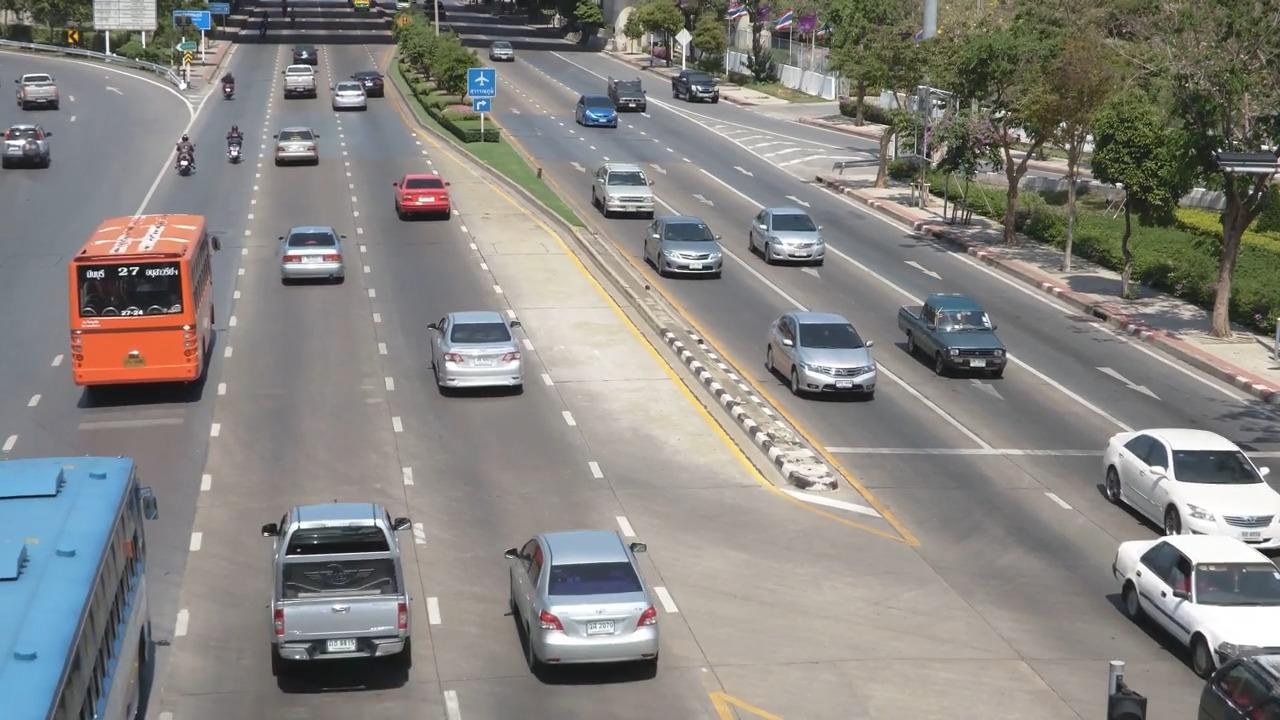CAR: (245, 496, 448, 697), (491, 521, 681, 697), (1087, 530, 1280, 695), (1099, 411, 1280, 546), (422, 301, 544, 409), (886, 282, 1018, 381), (767, 303, 889, 408), (735, 199, 837, 281), (638, 204, 732, 285), (273, 216, 353, 303), (387, 157, 470, 232), (582, 151, 662, 220), (8, 48, 75, 112), (265, 116, 328, 184), (0, 116, 56, 180), (667, 61, 732, 116), (277, 61, 332, 104), (567, 93, 624, 133), (345, 61, 396, 105), (328, 78, 374, 121), (603, 79, 653, 118), (285, 36, 330, 70)
HGV_BUS: (0, 443, 173, 720), (70, 199, 228, 410)
MOTOR: (160, 121, 205, 192), (208, 113, 262, 171), (208, 66, 241, 105)
